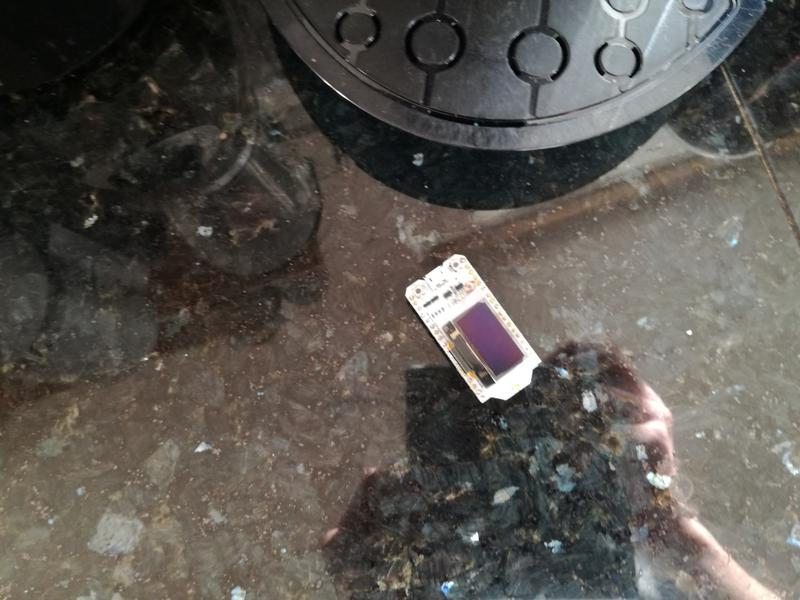Heltec_ESP32_Lora: (401, 251, 553, 405)
